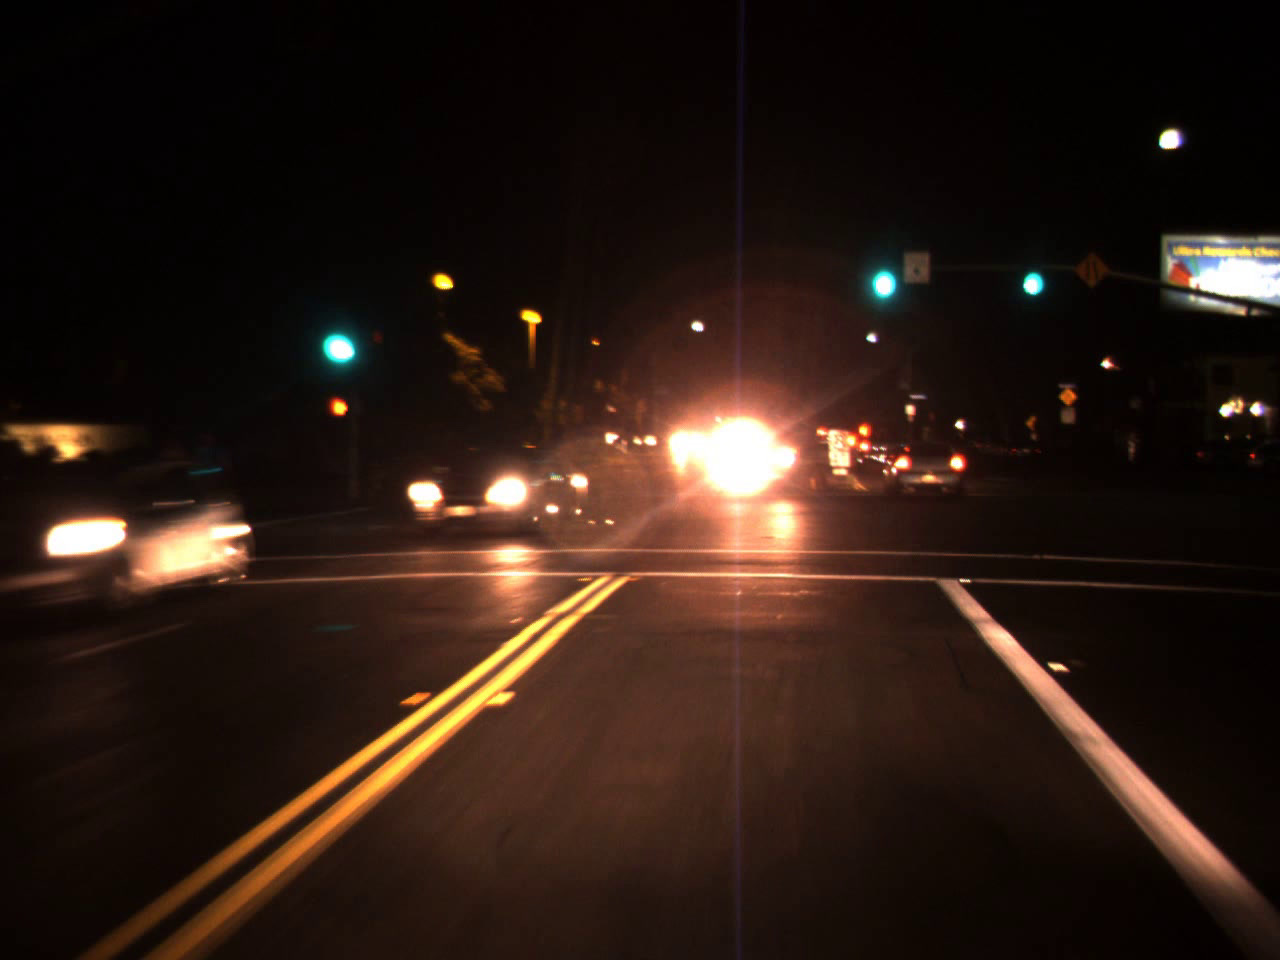go: (313, 295, 363, 376), (862, 233, 901, 311), (1015, 244, 1047, 304)
